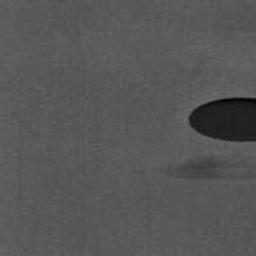Punching: (189, 97, 256, 143)
